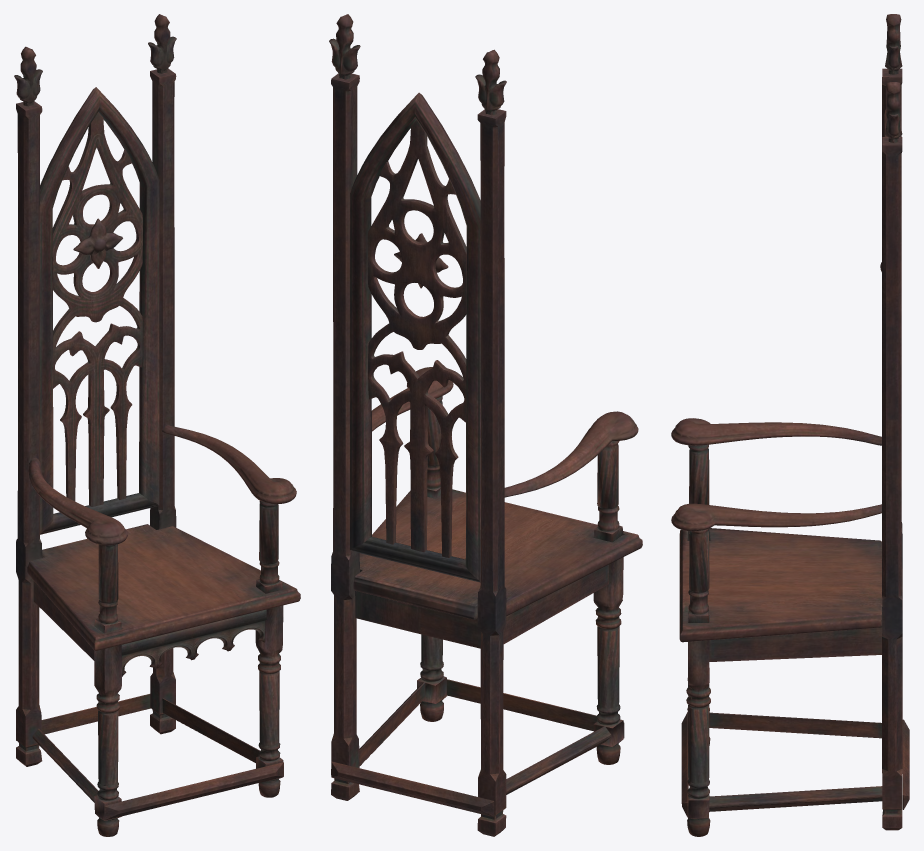
The model's file is wooden_chair.glb.
3 views of the same model, side by side, from view 1: azimuth 30°, elevation 25°; view 2: azimuth 150°, elevation 25°; view 3: azimuth 270°, elevation 25° (orthographic). The views are drawn at different scales.
Visible parts, largest first — view 1: WoodenChair_01; view 2: WoodenChair_01; view 3: WoodenChair_01.
Boxes of the visible parts, left/top/right/bottom form: WoodenChair_01: left=14, top=14, right=300, bottom=836; WoodenChair_01: left=329, top=14, right=642, bottom=836; WoodenChair_01: left=671, top=14, right=909, bottom=836.
Bounding box in the file's own units: 0.2785 × 0.92 × 0.2665.
Materials: 1 (1 with a texture image).
